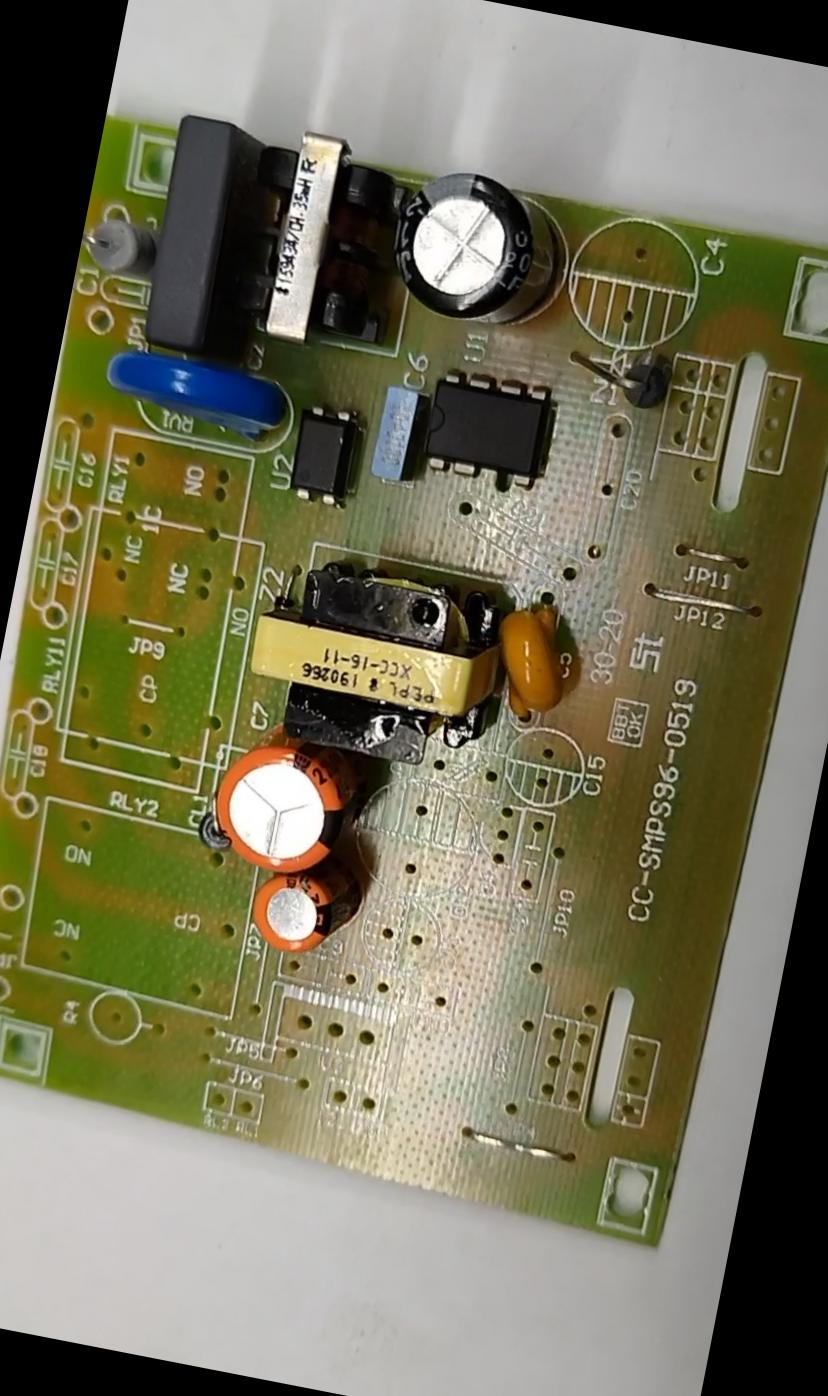Cap1: (202, 735, 350, 872)
Cap2: (244, 867, 365, 960)
Cap3: (384, 157, 560, 328)
MOSFET: (418, 368, 554, 486)
Mov: (102, 344, 289, 430)
Resistor: (78, 213, 154, 279)
Transformer: (232, 534, 504, 774), (232, 126, 400, 345)
